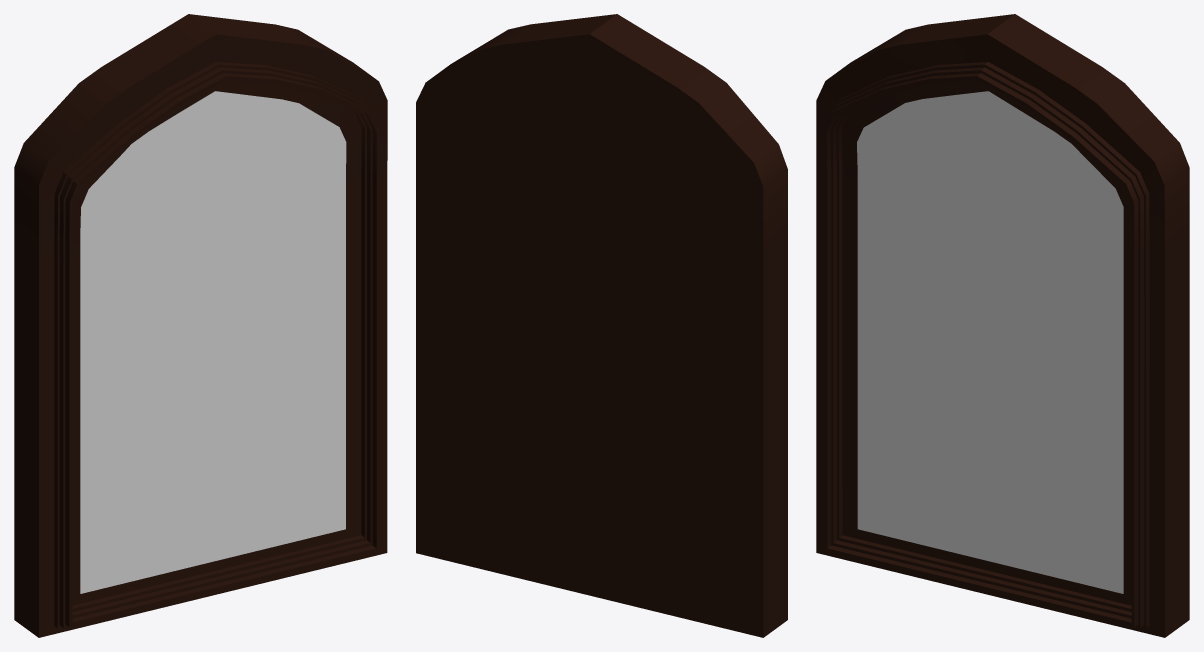
The model's file is Mirror 1 .fbx.
3 renders of one model, left to right at view 1: azimuth 30°, elevation 25°; view 2: azimuth 150°, elevation 25°; view 3: azimuth 330°, elevation 25°, orthographic.
Parts seen in each view (by area): view 1: Paint 1.001; view 2: Paint 1.001; view 3: Paint 1.001.
Part boxes in pixels (bbox=[...]): Paint 1.001: bbox=[14, 14, 387, 637]; Paint 1.001: bbox=[416, 14, 787, 637]; Paint 1.001: bbox=[816, 14, 1189, 637].
Size of the model in its own units: 123 by 191 by 23.36.
